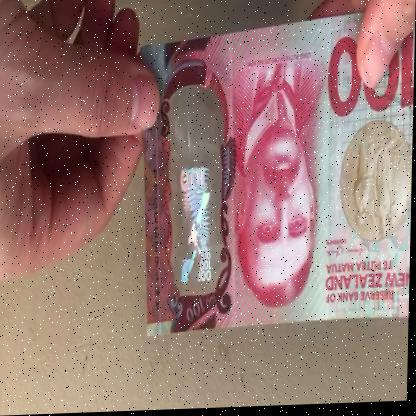100F: (174, 115, 220, 292)
